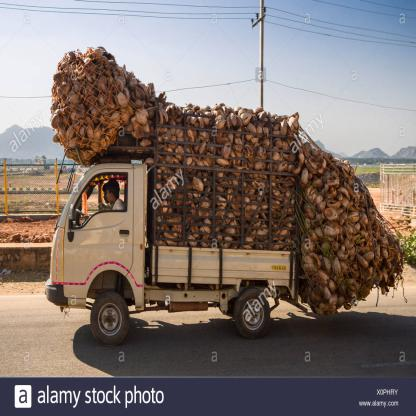overloaded-truck: (40, 51, 410, 346)
